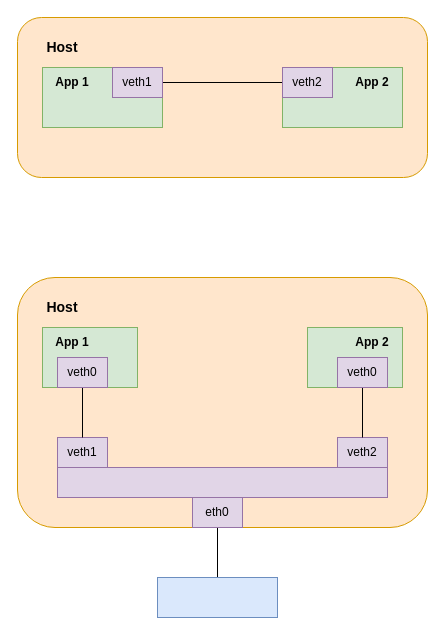
Some shapes in this 445 by 635 pixel diagram are drawn without their labels. The centre of each missing label's shape, as x and y in pixels:
"br0" goes at [222,482].
"Switch" goes at [217,597].
